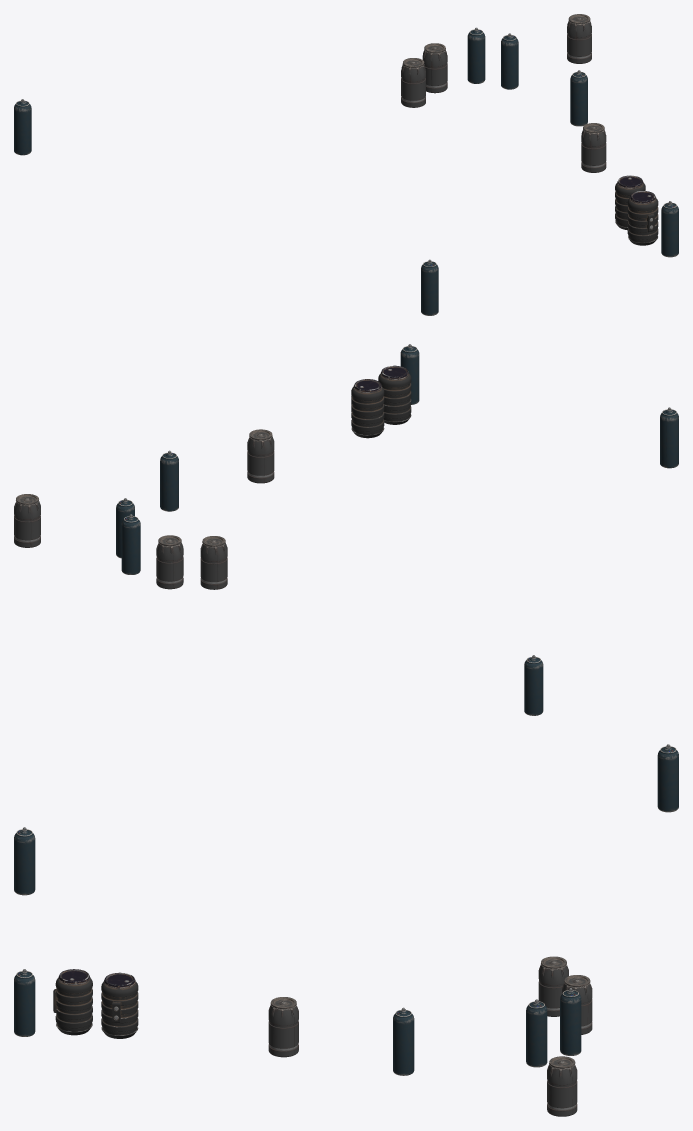
The model's file is imperial_base_dc.glb.
3 views of the same model, one above another, from view 1: azimuth 30°, elevation 25°; view 2: azimuth 150°, elevation 25°; view 3: azimuth 270°, elevation 25° (orthographic). The views are drawn at different scales.
Parts seen in each view (by area): view 1: BarrelXL, BarrelL, BarrelL.001, BarrelL.003, BarrelL.002, FlaskL.002, FlaskL.001, FlaskL, FlaskL.004, FlaskL.005, FlaskL.003, BarrelXL.001; view 2: BarrelXL.001, BarrelXL, BarrelL, BarrelL.002, BarrelL.003, BarrelL.001, FlaskL.002, FlaskL.005, FlaskL, FlaskL.003, FlaskL.004, FlaskL.001; view 3: BarrelXL, BarrelXL.001, BarrelL.001, BarrelL, FlaskL.001, FlaskL, FlaskL.004, FlaskL.005, FlaskL.003, FlaskL.002, BarrelL.003, BarrelL.002.
Part boxes in pixels (left/top/right/bottom): BarrelXL: left=627, top=191, right=658, bottom=245; BarrelL: left=581, top=123, right=606, bottom=172; BarrelL.001: left=567, top=14, right=591, bottom=63; BarrelL.003: left=401, top=58, right=425, bottom=107; BarrelL.002: left=422, top=43, right=447, bottom=93; FlaskL.002: left=467, top=27, right=485, bottom=83; FlaskL.001: left=501, top=33, right=518, bottom=89; FlaskL: left=570, top=70, right=587, bottom=126; FlaskL.004: left=661, top=201, right=678, bottom=257; FlaskL.005: left=14, top=99, right=31, bottom=155; FlaskL.003: left=421, top=259, right=438, bottom=315; BarrelXL.001: left=615, top=175, right=645, bottom=230; BarrelXL.001: left=351, top=379, right=384, bottom=438; BarrelXL: left=378, top=365, right=411, bottom=424; BarrelL: left=247, top=429, right=274, bottom=483; BarrelL.002: left=156, top=535, right=183, bottom=589; BarrelL.003: left=200, top=536, right=227, bottom=589; BarrelL.001: left=14, top=494, right=40, bottom=547; FlaskL.002: left=121, top=514, right=140, bottom=574; FlaskL.005: left=524, top=655, right=543, bottom=715; FlaskL: left=160, top=450, right=178, bottom=511; FlaskL.003: left=660, top=407, right=678, bottom=468; FlaskL.004: left=400, top=344, right=419, bottom=404; FlaskL.001: left=116, top=498, right=134, bottom=558; BarrelXL: left=53, top=969, right=92, bottom=1035; BarrelXL.001: left=101, top=972, right=138, bottom=1038; BarrelL.001: left=547, top=1056, right=577, bottom=1116; BarrelL: left=268, top=997, right=298, bottom=1057; FlaskL.001: left=526, top=999, right=547, bottom=1067; FlaskL: left=393, top=1007, right=414, bottom=1075; FlaskL.004: left=14, top=969, right=35, bottom=1036; FlaskL.005: left=657, top=744, right=678, bottom=812; FlaskL.003: left=14, top=827, right=35, bottom=895; FlaskL.002: left=560, top=988, right=581, bottom=1055; BarrelL.003: left=538, top=956, right=568, bottom=1016; BarrelL.002: left=562, top=975, right=592, bottom=1034.
Size of the model in its own units: 15.3 by 1.46 by 13.73.
Materials: 3 (3 with a texture image).
